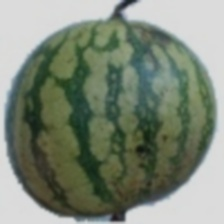watermelon: (38, 60, 188, 195)
